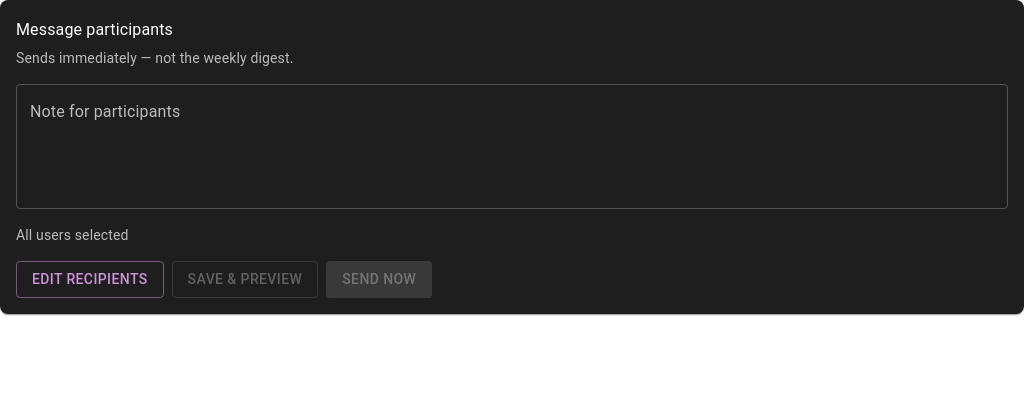
Scenario: AdminOnDemandEmailCard › POSTs the note to the send route
In the text box labelled "Note for participants": [512, 146] box [30,100,994,192], type "Kickoff moved"
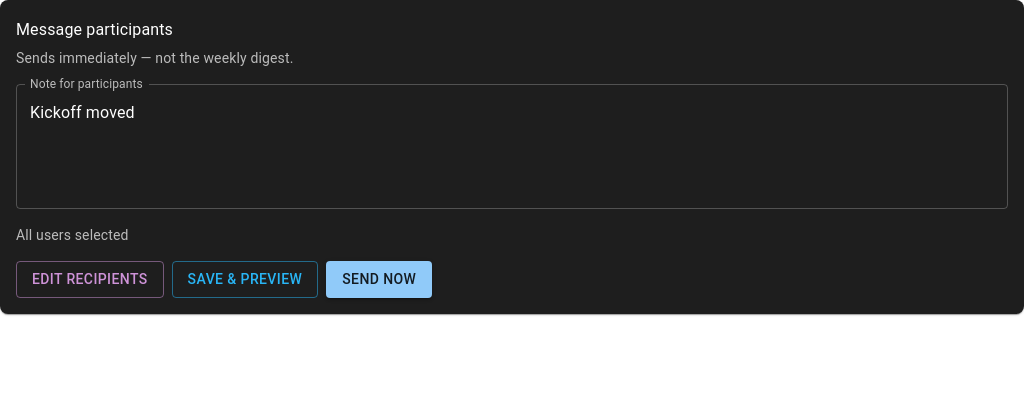
Click the button "Send Now": [379, 279] box [326,261,432,298]
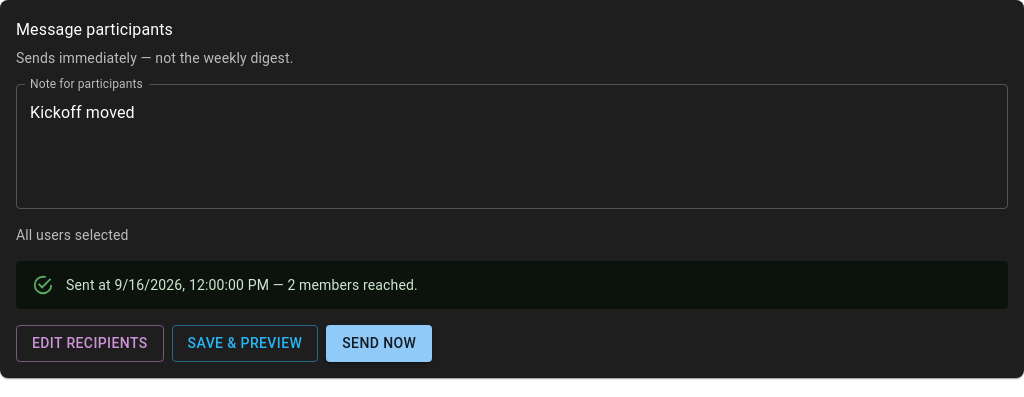
Now the text "Sent at 9/16/2026, 12:00:00 PM — 2 members reached." is shown, box [66,277,418,293]
